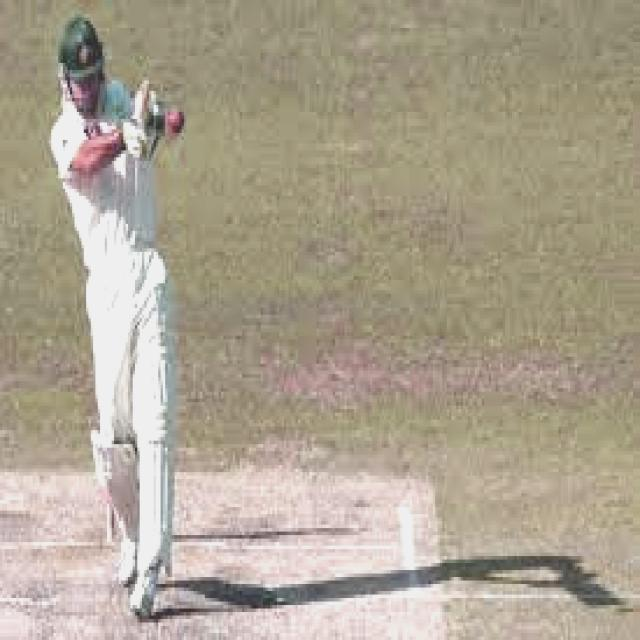toe: (138, 77, 148, 124)
